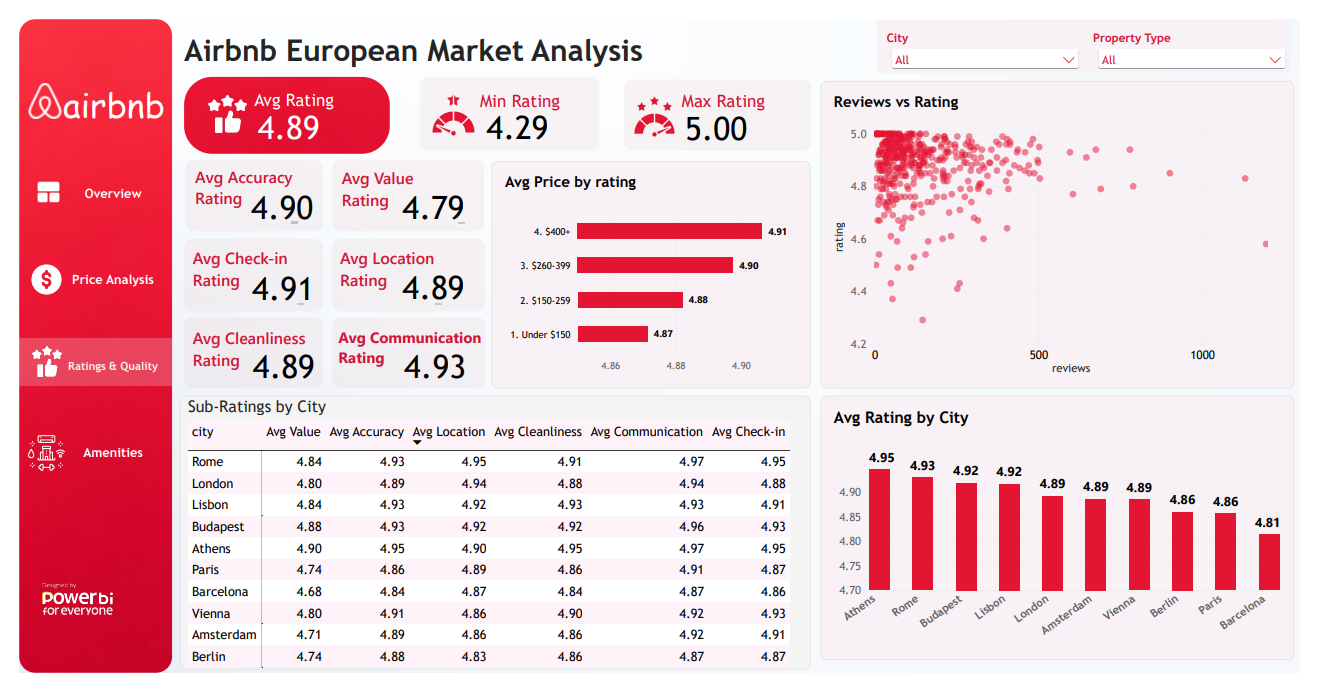

The page's visual inventory and layout, read from the dashboard file:
{"tool":"powerbi","page":{"name":"Ratings & Quality","canvas":[1600,816],"ordinal":2},"visuals":[{"type":"image","box":[0,0,191.1,816],"z":0},{"type":"textbox","title":"Airbnb European Market Analysis","box":[206.5,17.2,633.1,44.7],"z":3000},{"type":"image","box":[10,78.6,43.5,46.9],"z":4000},{"type":"image","box":[29.1,681.7,87.4,82.1],"z":5000},{"type":"textbox","title":"airbnb","box":[55.1,75.6,130.7,66.1],"z":8000},{"type":"shape","box":[499.6,71.8,225.4,92.9],"z":9000},{"type":"shape","box":[18.9,197.9,33.9,33.5],"z":9000,"group":"g1"},{"type":"image","box":[22.8,200.5,26.8,28.4],"z":9500,"group":"g1"},{"type":"textbox","title":"Min Rating","box":[576.4,89.5,118.7,27.5],"z":10000},{"type":"shape","box":[756,74.8,234,89.5],"z":11000},{"type":"textbox","title":"Max Rating","box":[828.2,89.5,132.5,29.2],"z":12000},{"type":"image","box":[757.7,94.6,70.5,53.3],"z":13000},{"type":"image","box":[509.3,91.2,67.1,55.1],"z":16000},{"type":"slicer","title":"Property Type","fields":{"Values":["GOLD fact_listings.property_type"]},"box":[1329.9,1.7,258.1,65.4],"z":17000},{"type":"slicer","title":"City","fields":{"Values":["GOLD fact_listings.property_type"]},"box":[1071.8,1.7,258.1,65.4],"z":18000},{"type":"scatterChart","title":"Reviews vs Rating","fields":{"X":["GOLD fact_listings.reviews"],"Y":["GOLD fact_listings.rating"]},"box":[1001.3,77.4,591.8,383.7],"z":19000},{"type":"shape","box":[391,175.1,190.5,89.5],"z":20000},{"type":"cardVisual","fields":{"Data":["_Measures.Avg Accuracy"]},"box":[273.5,199.6,161.7,70.5],"z":21000},{"type":"textbox","title":"Avg Accuracy Rating","box":[220.2,182.4,127.3,72.3],"z":22000},{"type":"barChart","title":"Avg Price by rating","fields":{"Category":["GOLD fact_listings.Price Band"],"Y":["_Measures.Avg Rating"]},"box":[590.1,177.2,399.1,283.9],"z":23000},{"type":"cardVisual","fields":{"Data":["_Measures.Min Rating"]},"box":[567.8,104.9,121.7,58.4],"z":24000},{"type":"cardVisual","fields":{"Data":["_Measures.Max Rating"]},"box":[816.2,106.7,203,58.5],"z":25000},{"type":"pivotTable","title":"Sub-Ratings by City","fields":{"Rows":["GOLD fact_listings.city"],"Values":["_Measures.Avg Value","_Measures.Avg Accuracy","_Measures.Avg Location","_Measures.Avg Cleanliness","_Measures.Avg Communication","_Measures.Avg Check-in"]},"box":[201.3,469.7,788,342.4],"z":26000},{"type":"shape","box":[390.5,273.5,191,91.2],"z":27000},{"type":"cardVisual","fields":{"Data":["_Measures.Avg Value"]},"box":[462.8,194.4,120.4,80.9],"z":28000},{"type":"textbox","title":"Avg Value Rating","box":[402.6,184.1,153.1,72.3],"z":29000},{"type":"shape","box":[206.5,371.6,173.8,89.5],"z":30000},{"type":"cardVisual","fields":{"Data":["_Measures.Avg Location"]},"box":[462.8,295.9,121.9,76.2],"z":31000},{"type":"textbox","title":"Avg Location Rating","box":[400.9,283.9,127.3,72.3],"z":32000},{"type":"shape","box":[208.2,175.5,172,89.5],"z":33000},{"type":"cardVisual","fields":{"Data":["_Measures.Avg Cleanliness"]},"box":[276.1,394.8,148.6,76.2],"z":34000},{"type":"textbox","title":"Avg Cleanliness Rating","box":[216.8,383.7,178.9,61.9],"z":35000},{"type":"shape","box":[206.5,273.5,173.8,91.2],"z":36000},{"type":"cardVisual","fields":{"Data":["_Measures.Avg Communication"]},"box":[464.5,395.7,117,75.7],"z":37000},{"type":"textbox","title":"Avg Communication Rating","box":[399.1,383.7,192.7,58.5],"z":38000},{"type":"shape","box":[390.5,371.6,192.7,89.5],"z":39000},{"type":"cardVisual","fields":{"Data":["_Measures.Avg Check-in"]},"box":[275.3,297.6,117,75.7],"z":40000},{"type":"textbox","title":"Avg Check-in Rating","box":[216.8,283.9,139.4,72.3],"z":41000},{"type":"columnChart","title":"Avg Rating by City","fields":{"Category":["GOLD fact_listings.city"],"Y":["_Measures.Avg Rating"]},"box":[1001.3,469.7,591.8,330.3],"z":42000},{"type":"image","box":[205.7,72.4,257.1,95.2],"z":43000},{"type":"textbox","title":"Avg Rating","box":[294.2,87.7,203,29.2],"z":44000},{"type":"cardVisual","fields":{"Data":["_Measures.Avg Rating"]},"box":[281.9,104.8,203,58.5],"z":45000},{"type":"image","box":[237.4,91.2,46.5,53.3],"z":46000},{"type":"group","id":"g1","title":"Group 1","box":[18.9,197.9,35.7,34.4],"z":46001},{"type":"image","box":[14.9,408.9,38.7,37.2],"z":46002},{"type":"pageNavigator","box":[26.8,168,181.4,425.3],"z":46003},{"type":"shape","box":[0,398.5,190.3,59.5],"z":46004},{"type":"image","box":[11.4,512.4,45.7,59],"z":46005},{"type":"image","box":[13.4,304.8,41.6,40.1],"z":46006}]}

Visuals, with their boxes in screenshot pixels (x1, y1, x2, y2), scaled from the page's 1600x816 canvas onto the 1318x689 screenshot:
image: x1=0 y1=0 x2=157 y2=688
"Airbnb European Market Analysis" textbox: x1=170 y1=15 x2=692 y2=52
image: x1=8 y1=66 x2=44 y2=106
image: x1=24 y1=576 x2=96 y2=645
"airbnb" textbox: x1=45 y1=64 x2=153 y2=120
shape: x1=412 y1=61 x2=597 y2=139
shape: x1=16 y1=167 x2=43 y2=195
image: x1=19 y1=169 x2=41 y2=193
"Min Rating" textbox: x1=475 y1=76 x2=573 y2=99
shape: x1=623 y1=63 x2=816 y2=139
"Max Rating" textbox: x1=682 y1=76 x2=791 y2=100
image: x1=624 y1=80 x2=682 y2=125
image: x1=420 y1=77 x2=475 y2=124
"Property Type" slicer: x1=1096 y1=1 x2=1308 y2=57
"City" slicer: x1=883 y1=1 x2=1096 y2=57
"Reviews vs Rating" scatterChart: x1=825 y1=65 x2=1312 y2=389
shape: x1=322 y1=148 x2=479 y2=223
cardVisual - _Measures.Avg Accuracy: x1=225 y1=169 x2=358 y2=228
"Avg Accuracy Rating" textbox: x1=181 y1=154 x2=286 y2=215
"Avg Price by rating" barChart: x1=486 y1=150 x2=815 y2=389
cardVisual - _Measures.Min Rating: x1=468 y1=89 x2=568 y2=138
cardVisual - _Measures.Max Rating: x1=672 y1=90 x2=840 y2=139
"Sub-Ratings by City" pivotTable: x1=166 y1=397 x2=815 y2=686
shape: x1=322 y1=231 x2=479 y2=308
cardVisual - _Measures.Avg Value: x1=381 y1=164 x2=480 y2=232
"Avg Value Rating" textbox: x1=332 y1=155 x2=458 y2=216
shape: x1=170 y1=314 x2=313 y2=389
cardVisual - _Measures.Avg Location: x1=381 y1=250 x2=482 y2=314
"Avg Location Rating" textbox: x1=330 y1=240 x2=435 y2=301
shape: x1=172 y1=148 x2=313 y2=224
cardVisual - _Measures.Avg Cleanliness: x1=227 y1=333 x2=350 y2=398
"Avg Cleanliness Rating" textbox: x1=179 y1=324 x2=326 y2=376
shape: x1=170 y1=231 x2=313 y2=308
cardVisual - _Measures.Avg Communication: x1=383 y1=334 x2=479 y2=398
"Avg Communication Rating" textbox: x1=329 y1=324 x2=487 y2=373
shape: x1=322 y1=314 x2=480 y2=389
cardVisual - _Measures.Avg Check-in: x1=227 y1=251 x2=323 y2=315
"Avg Check-in Rating" textbox: x1=179 y1=240 x2=293 y2=301
"Avg Rating by City" columnChart: x1=825 y1=397 x2=1312 y2=675
image: x1=169 y1=61 x2=381 y2=142
"Avg Rating" textbox: x1=242 y1=74 x2=410 y2=99
cardVisual - _Measures.Avg Rating: x1=232 y1=88 x2=399 y2=138
image: x1=196 y1=77 x2=234 y2=122
"Group 1" group: x1=16 y1=167 x2=45 y2=196
image: x1=12 y1=345 x2=44 y2=377
pageNavigator: x1=22 y1=142 x2=172 y2=501
shape: x1=0 y1=336 x2=157 y2=387
image: x1=9 y1=433 x2=47 y2=482
image: x1=11 y1=257 x2=45 y2=291
